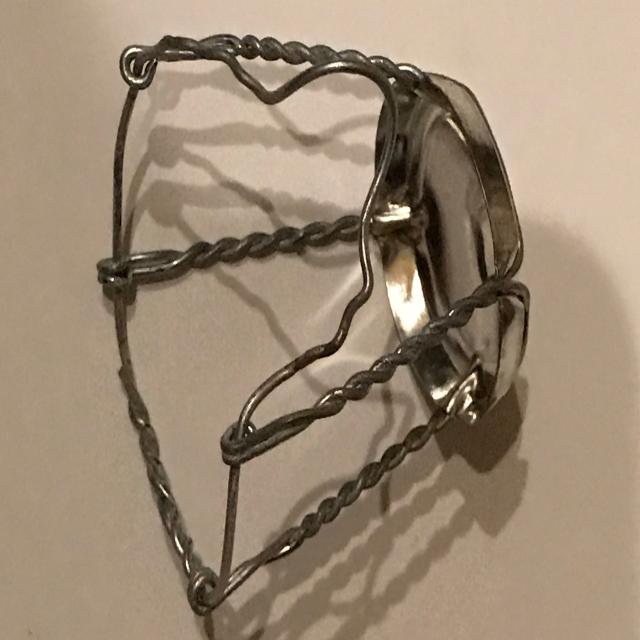metal: (97, 32, 530, 616)
